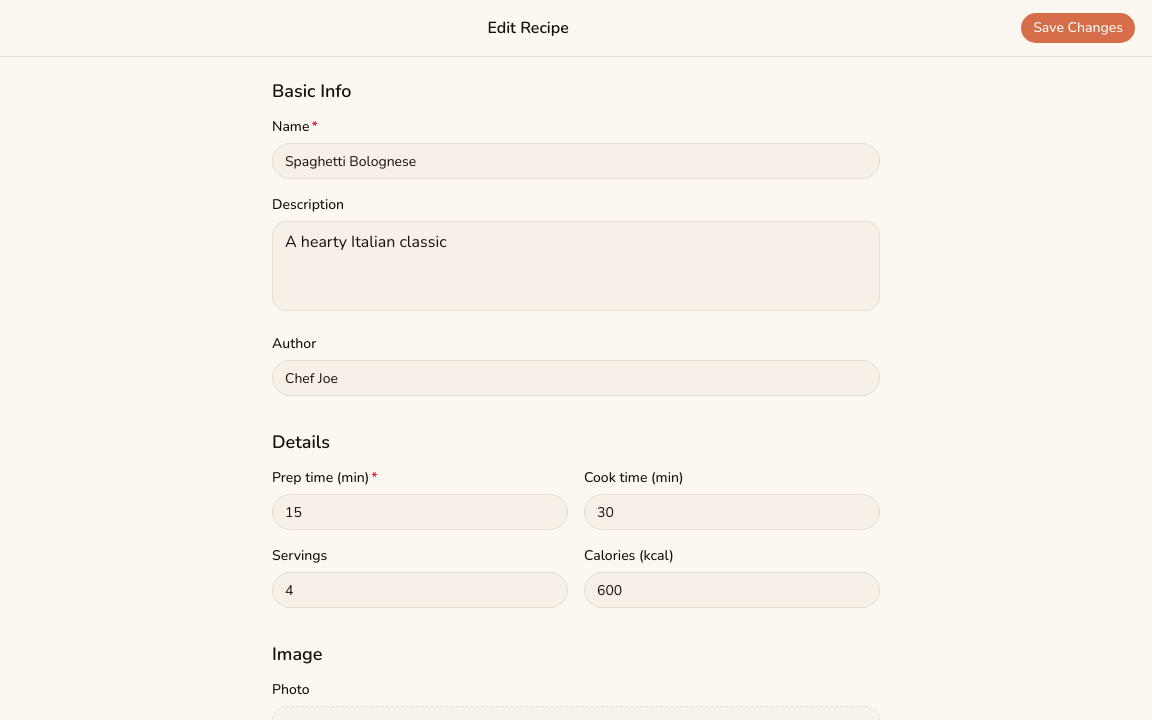
Test case: EditRecipeForm › validation › shows error when prep time is empty
Clear the number field showing "15" below "Prep time (min)": (420,512) [272,494,568,530]
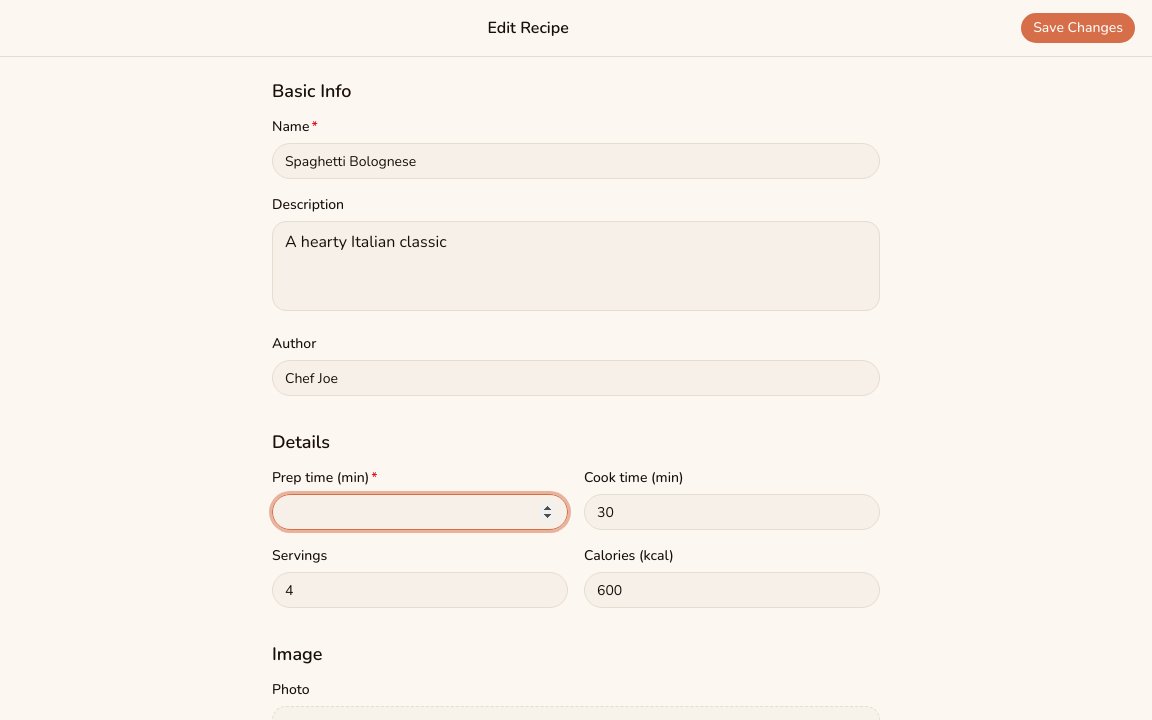
Click the button "Save Changes": (1078,28) [1020,12,1136,44]
(page scrolled)
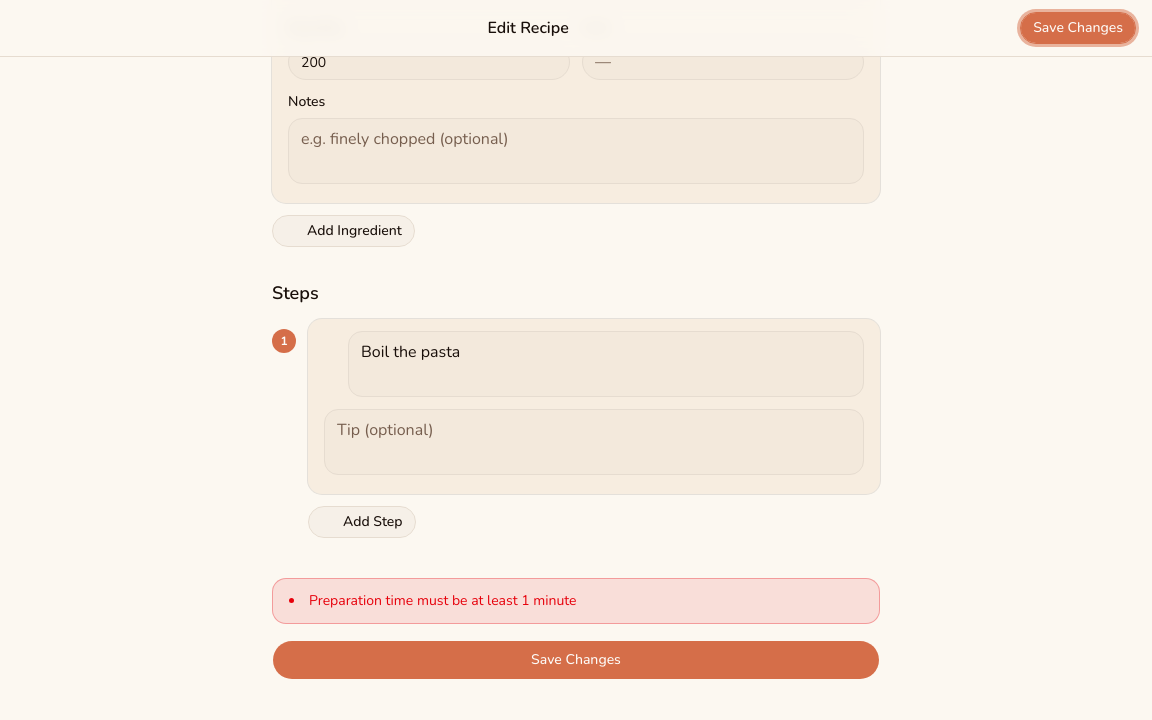
Expected: the list item "Preparation time must be at least 1 minute" is shown, [309,591,576,610]
